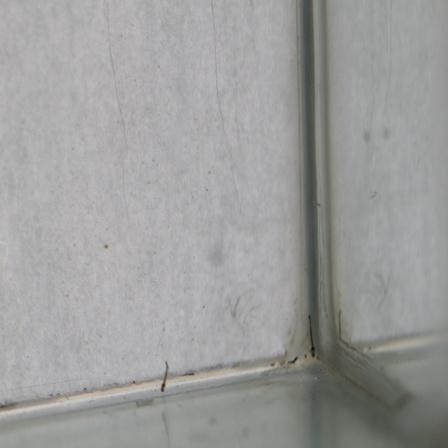Jentik-Nyamuk: (304, 312, 318, 360), (156, 358, 174, 394)
